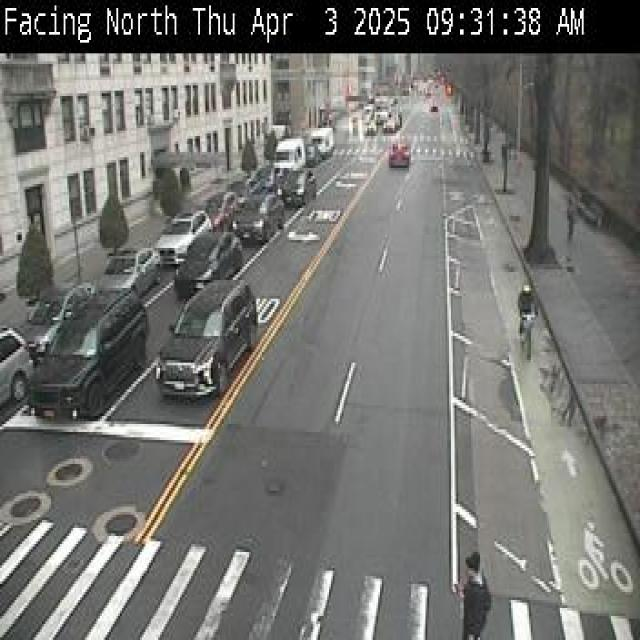parkedCars: (24, 246, 156, 349), (139, 193, 185, 284), (174, 163, 231, 234), (231, 140, 284, 192)
